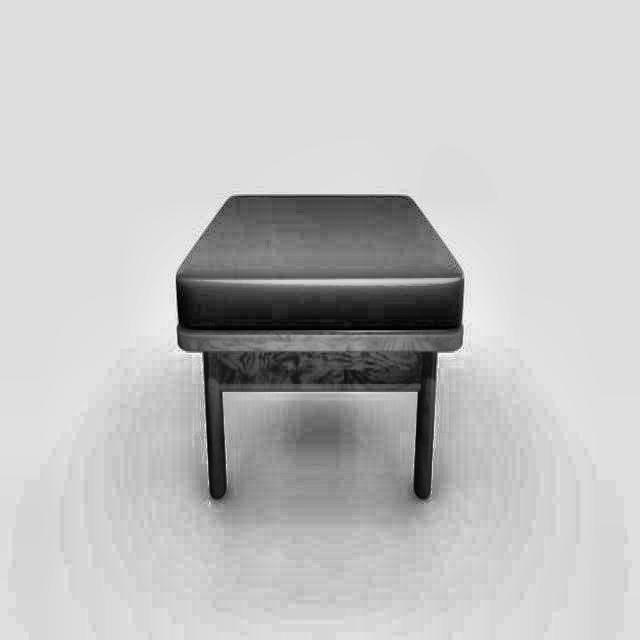mesa: (175, 192, 466, 500)
